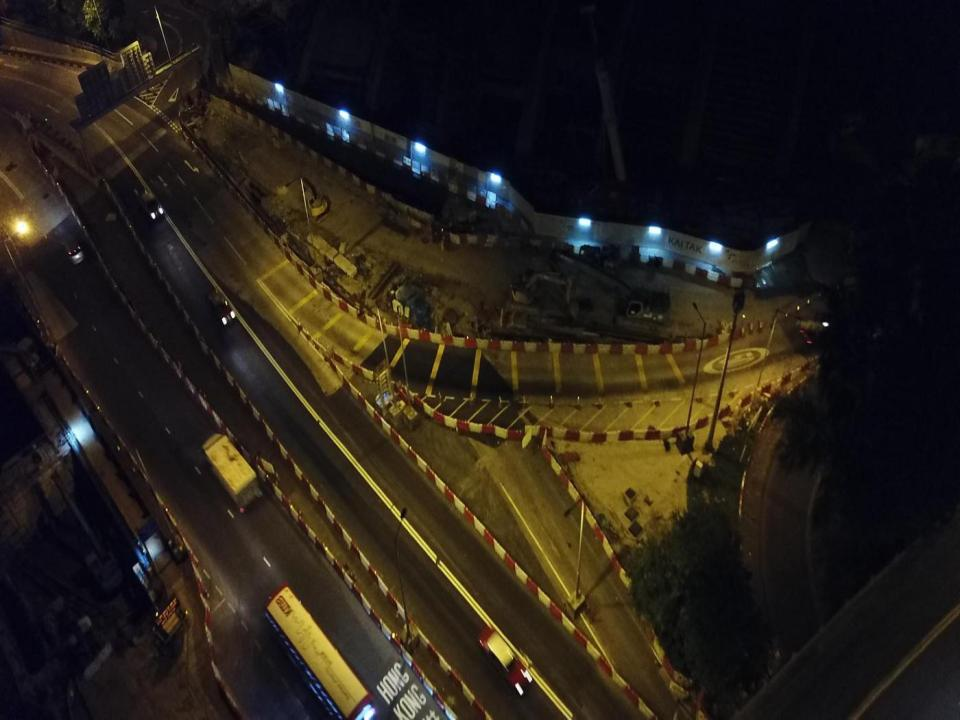bus: (264, 582, 378, 719)
car: (478, 624, 532, 696), (208, 291, 236, 328), (141, 191, 163, 221)
truck: (200, 430, 261, 512), (624, 290, 672, 325)
van: (60, 233, 84, 264)
